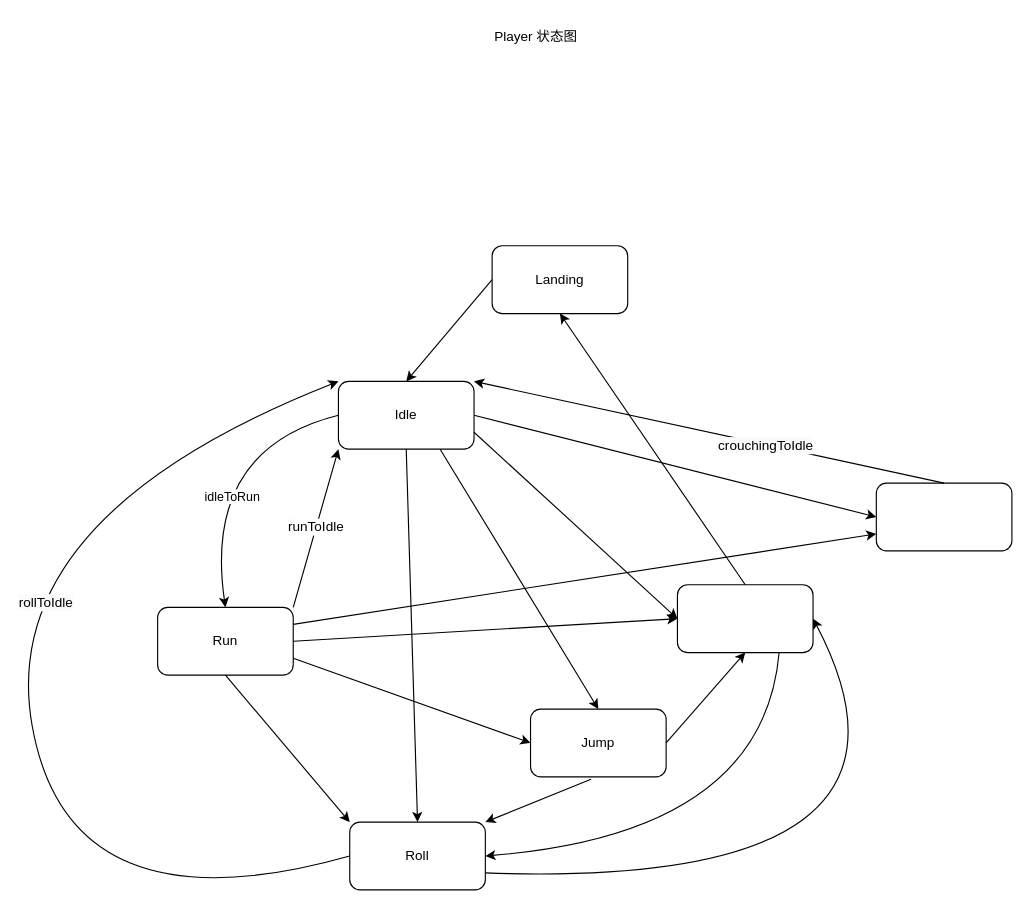
Some shapes in this 1033 by 910 pixel diagram are drawn without their labels. The centre of each missing label's shape, as x and y in pixels:
"Crouch" belongs at (943,516).
"Falling" belongs at (744,618).
